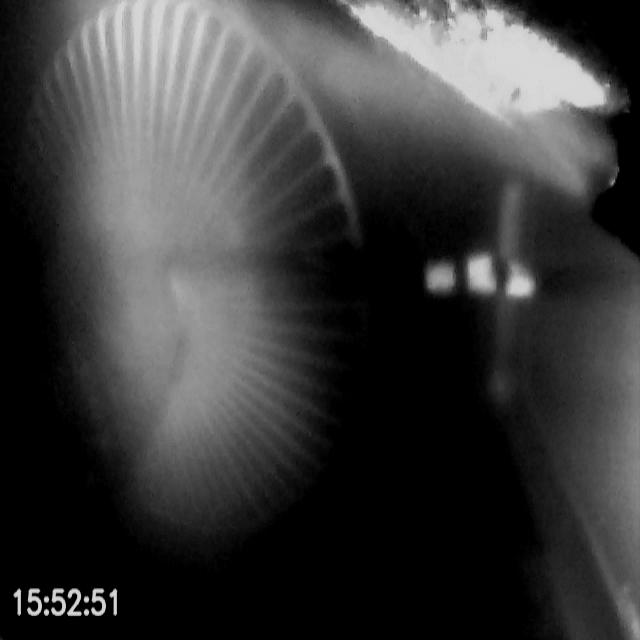white-dots: (424, 250, 539, 302)
